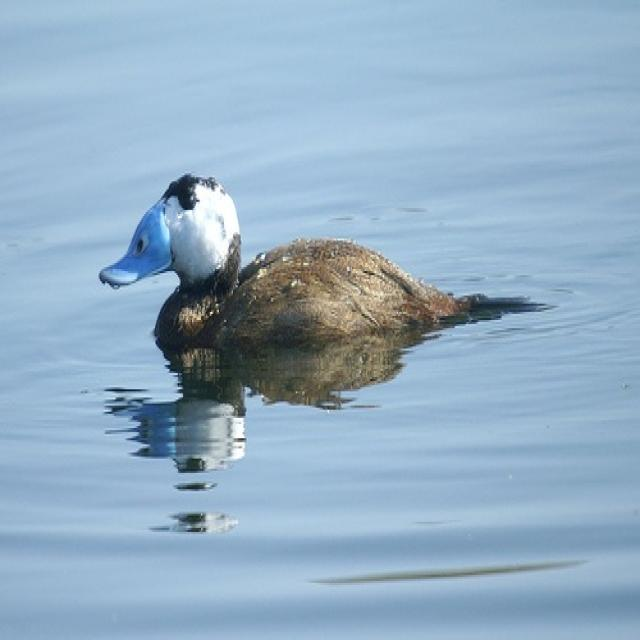bird: (99, 167, 536, 367)
